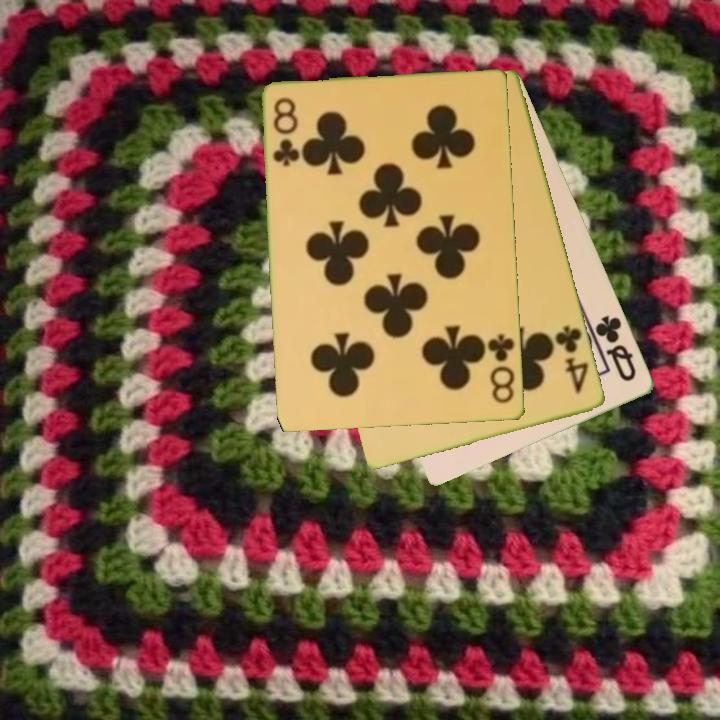4c: (551, 322, 592, 397)
8c: (485, 330, 518, 407), (269, 94, 302, 170)
Qc: (592, 311, 640, 385)
